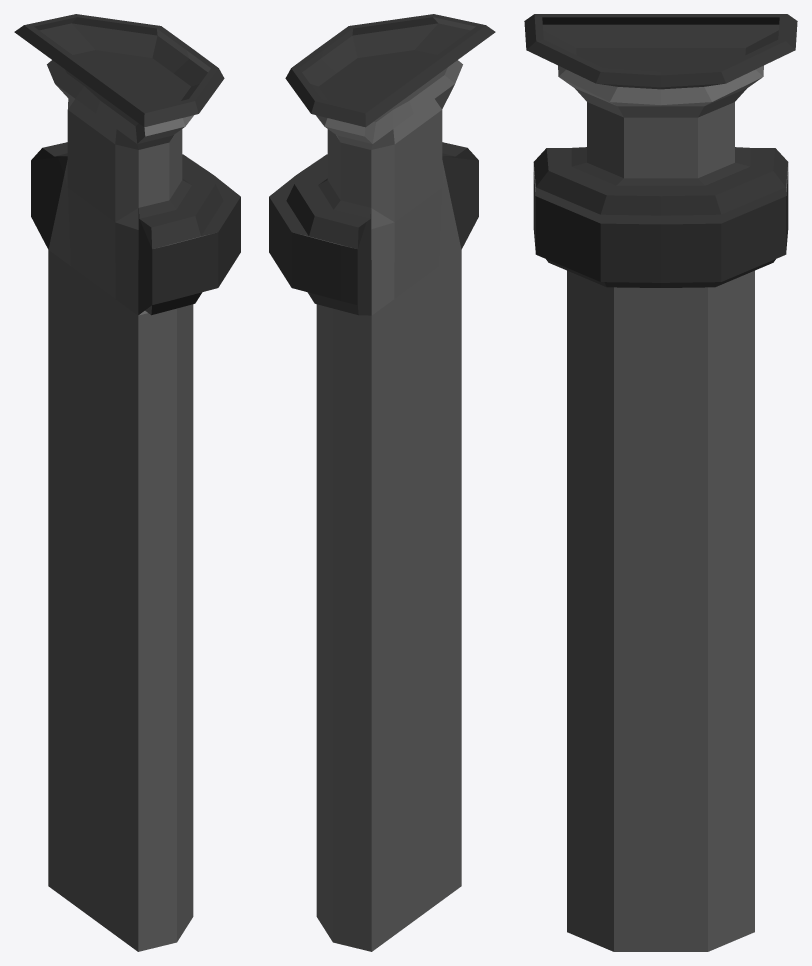
The model's file is SidePillarVersion2.fbx.
3 renders of one model, left to right at view 1: azimuth 30°, elevation 25°; view 2: azimuth 150°, elevation 25°; view 3: azimuth 270°, elevation 25°, orthographic. The views are drawn at different scales.
Parts seen in each view (by area): view 1: Cube; view 2: Cube; view 3: Cube.
Part boxes in pixels (x1,y1,x2,y2): Cube: (14, 14, 240, 951); Cube: (269, 14, 495, 951); Cube: (524, 14, 797, 951).
Size of the model in its own units: 112 by 675 by 187.
